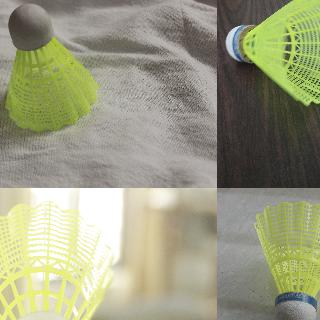shuttlecock: (0, 200, 115, 319), (5, 4, 99, 130), (225, 0, 319, 105), (253, 201, 319, 319)
